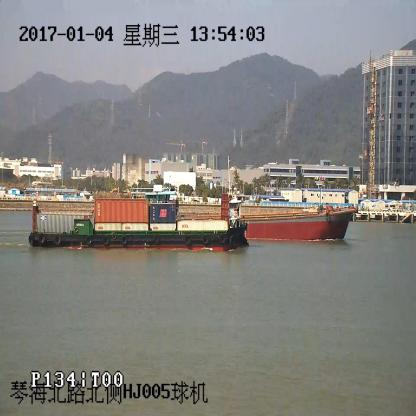Container Ship: (28, 195, 250, 249)
